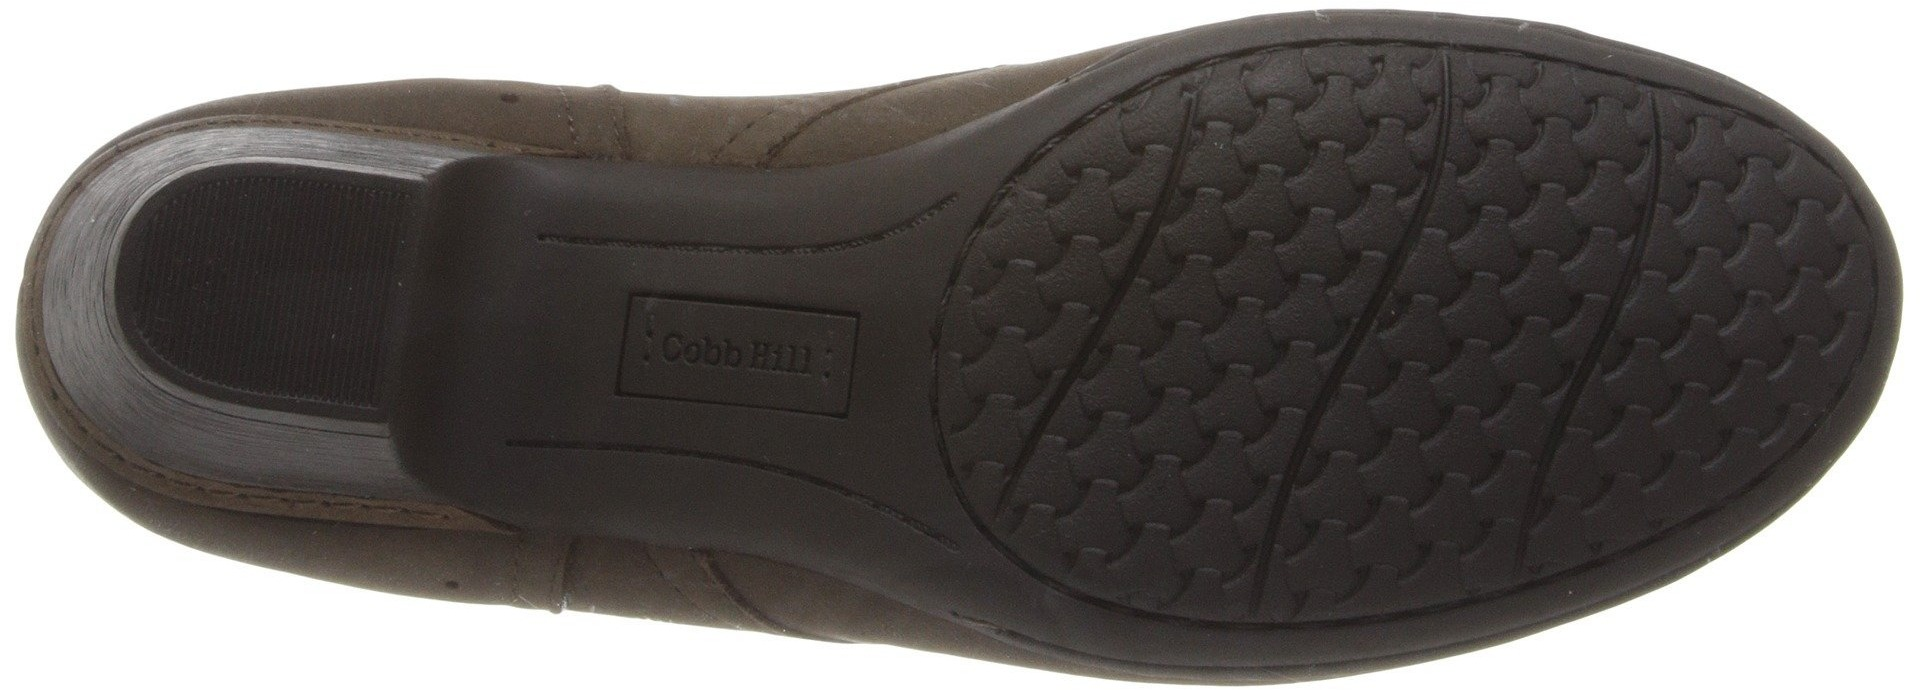line: (1015, 154, 1455, 553), (1451, 131, 1789, 449)
other: (189, 193, 378, 376)
star: (1015, 154, 1455, 553), (1451, 131, 1789, 449)
